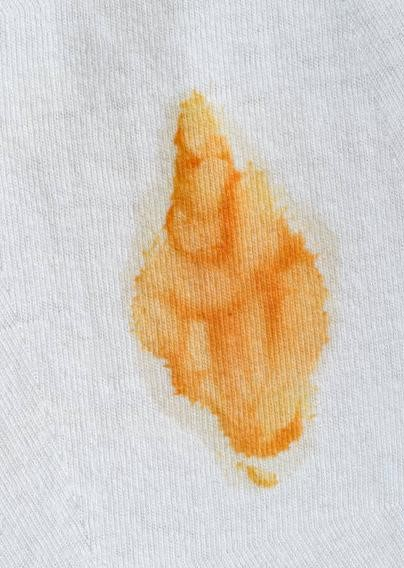stain: (125, 87, 337, 493)
